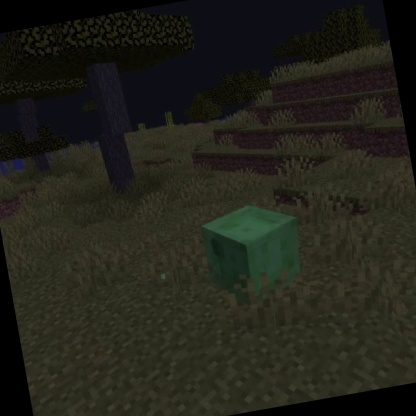slime: (195, 194, 314, 311)
